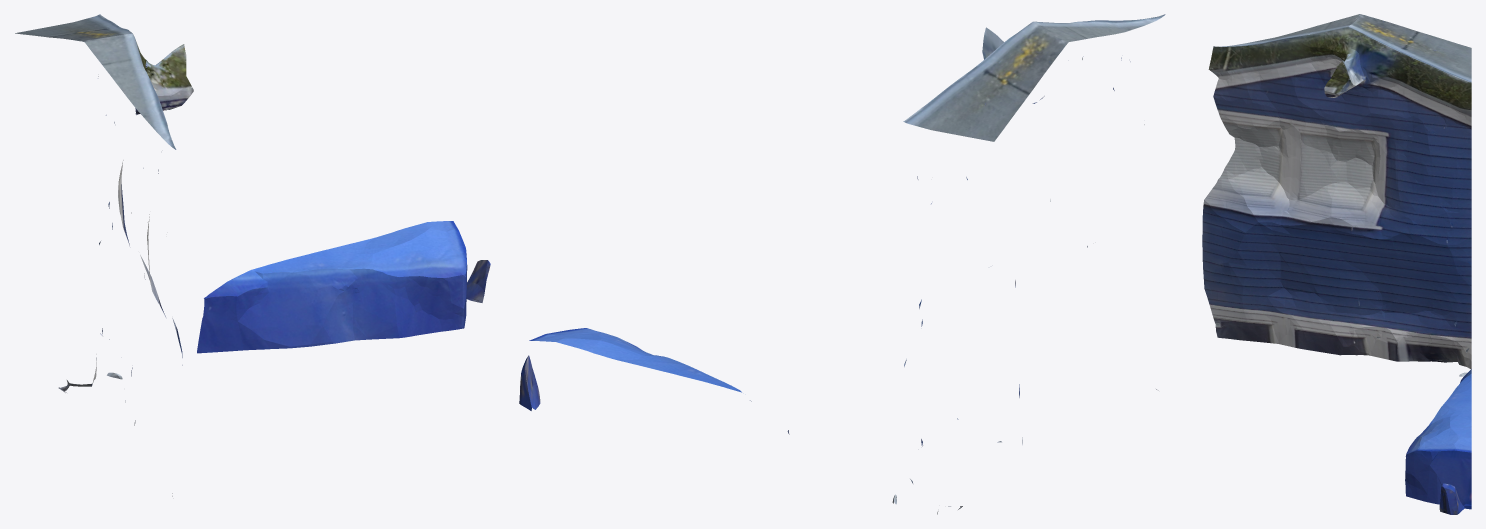
3 renders of one model, left to right at view 1: azimuth 30°, elevation 25°; view 2: azimuth 150°, elevation 25°; view 3: azimuth 270°, elevation 25°, orthographic. The views are drawn at different scales.
Size of the model in its own units: 4.66 by 3.99 by 2.98.
Materials: 1 (1 with a texture image).
